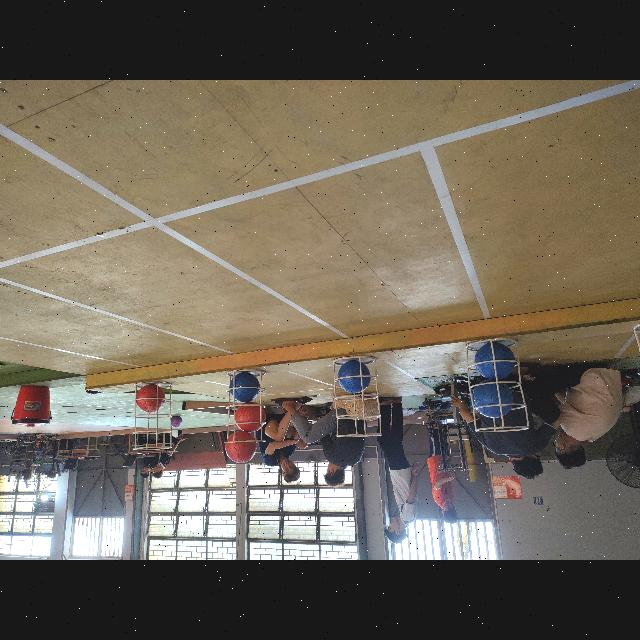B: (473, 380, 513, 418), (476, 344, 516, 378), (338, 360, 370, 394), (228, 372, 260, 402)
R: (226, 432, 256, 462), (235, 402, 265, 432), (136, 383, 166, 412)
